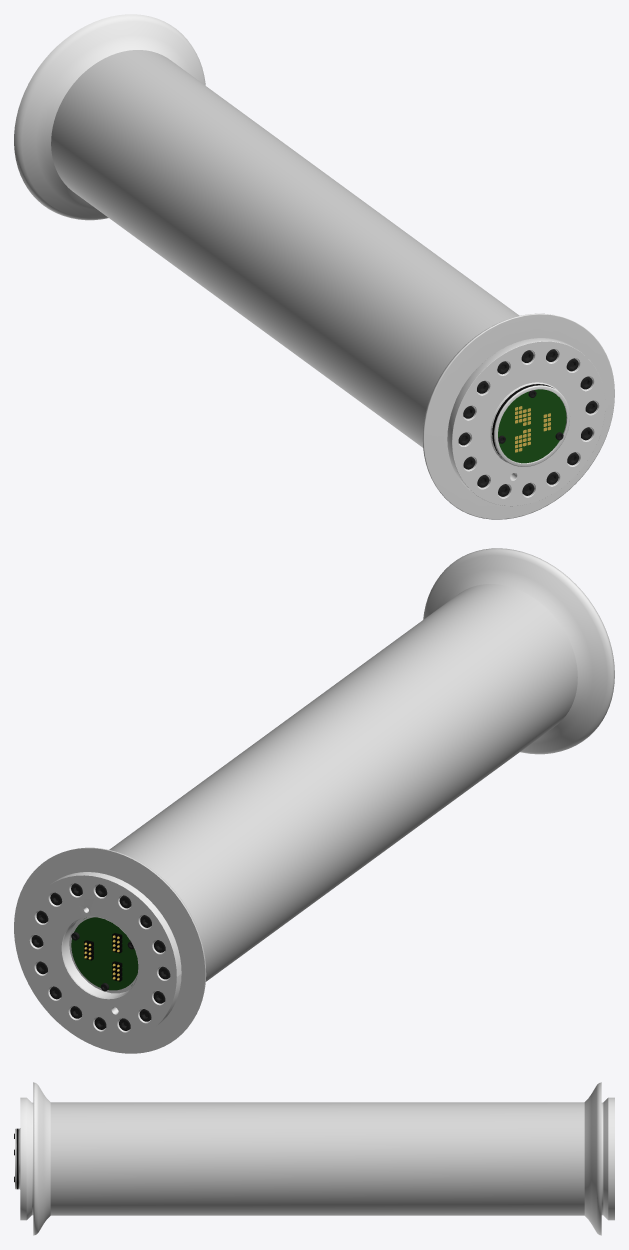
The picture shows the model from 3 angles, top to bottom: view 1: azimuth 30°, elevation 25°; view 2: azimuth 150°, elevation 25°; view 3: azimuth 270°, elevation 25°; orthographic projection. The views are drawn at different scales.
Visible parts, largest first — view 1: I116.001; view 2: I116.001; view 3: I116.001.
Part boxes in pixels (x1,y1,x2,y2): I116.001: (14, 14, 614, 519); I116.001: (14, 548, 614, 1053); I116.001: (14, 1082, 614, 1235).
Bounding box in the file's own units: 0.116 × 0.116 × 0.4547.
